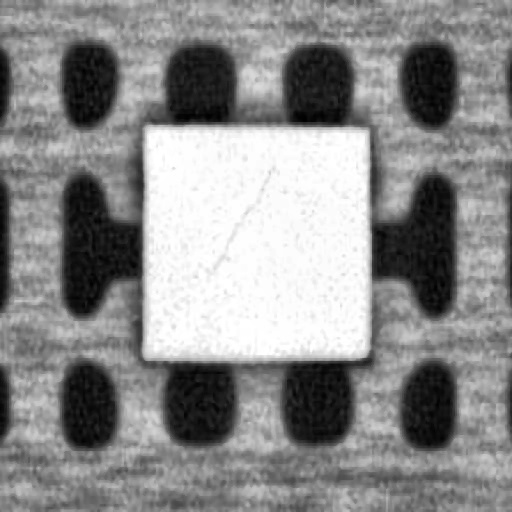DIE_CRACK: (209, 162, 276, 270)
